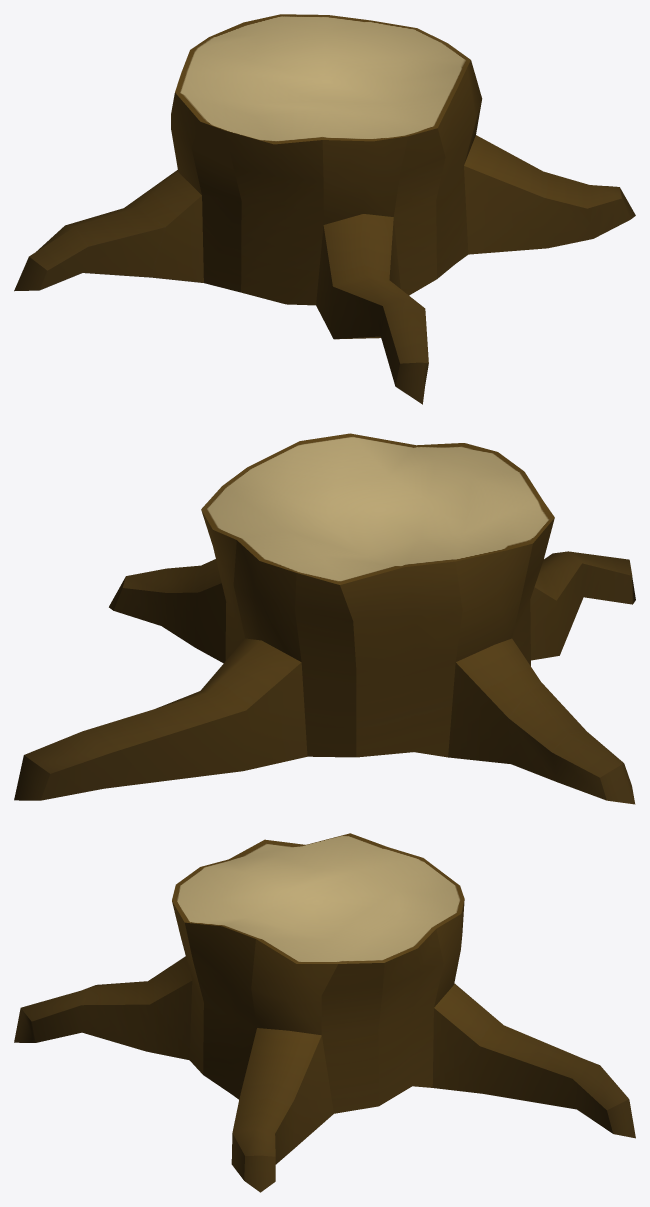
Rendered from stump.fbx.
3 renders of one model, top to bottom at view 1: azimuth 30°, elevation 25°; view 2: azimuth 150°, elevation 25°; view 3: azimuth 270°, elevation 25°, orthographic. The views are drawn at different scales.
Parts seen in each view (by area): view 1: stump; view 2: stump; view 3: stump.
Boxes of the visible parts, x1,y1,x2,y2 form: stump: (14,14,635,404); stump: (14,433,635,804); stump: (14,833,635,1192).
Bounding box in the file's own units: 9.43 × 3.24 × 9.99.
